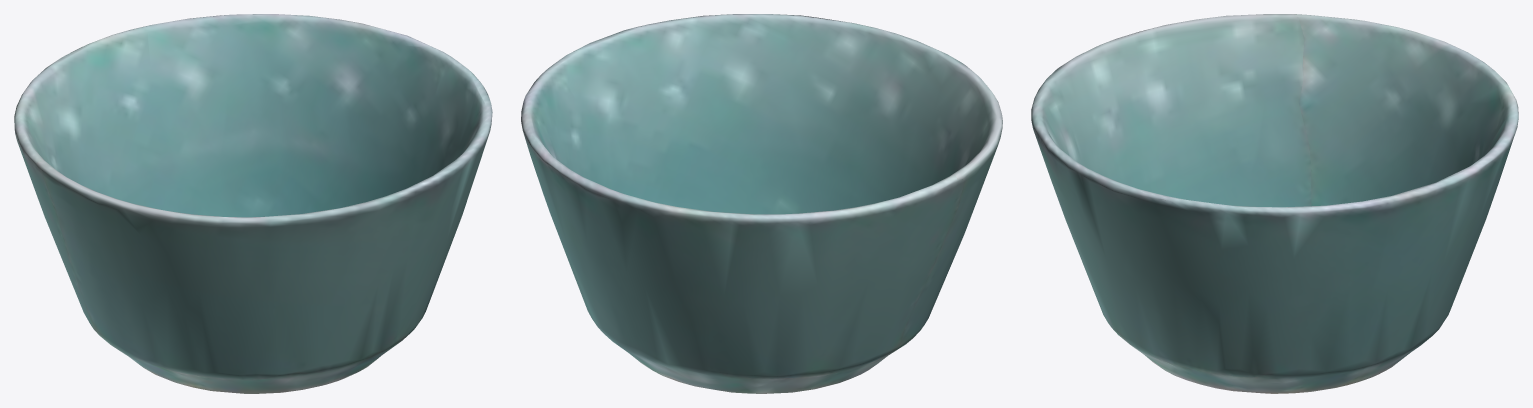
Rendered from Room_Essentials_Bowl_Turquiose-high.glb.
3 views of the same model, side by side, from view 1: azimuth 30°, elevation 25°; view 2: azimuth 150°, elevation 25°; view 3: azimuth 270°, elevation 25° (orthographic).
Visible parts, largest first — view 1: Room_Essentials_Bowl_Turquiose; view 2: Room_Essentials_Bowl_Turquiose; view 3: Room_Essentials_Bowl_Turquiose.
Part boxes in pixels (x1=…): Room_Essentials_Bowl_Turquiose: x1=14, y1=14, x2=492, y2=393; Room_Essentials_Bowl_Turquiose: x1=521, y1=14, x2=1002, y2=393; Room_Essentials_Bowl_Turquiose: x1=1031, y1=14, x2=1518, y2=393.
Bounding box in the file's own units: 0.1569 × 0.0826 × 0.1571.
1 material, 1 textured.
